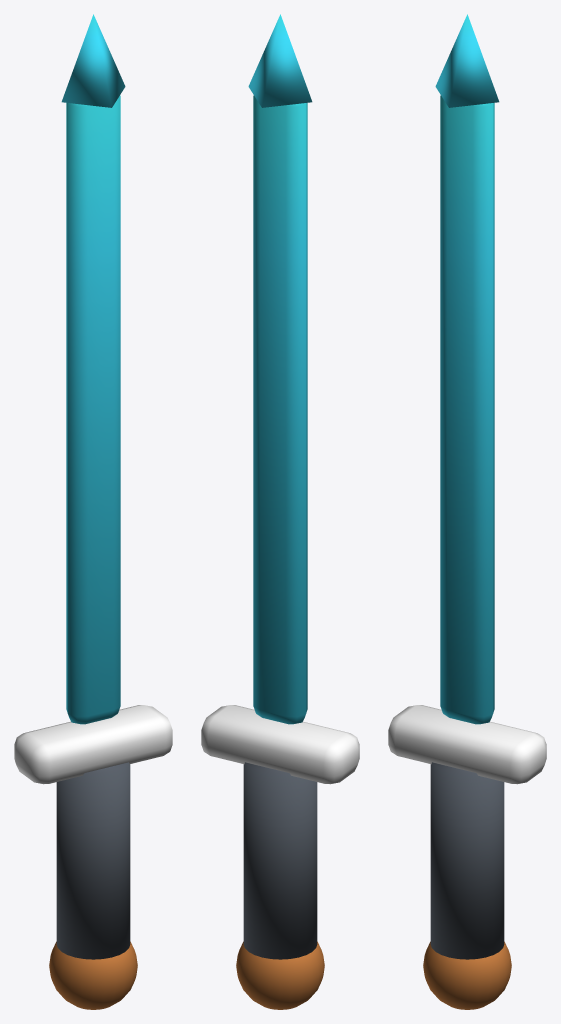
File: espada_energia.glb
3 views of the same model, side by side, from view 1: azimuth 30°, elevation 25°; view 2: azimuth 150°, elevation 25°; view 3: azimuth 330°, elevation 25° (orthographic).
Visible parts, largest first — view 1: espada_energia_fijo; view 2: espada_energia_fijo; view 3: espada_energia_fijo.
Boxes of the visible parts, x1,y1,x2,y2 form: espada_energia_fijo: (14, 14, 172, 1009); espada_energia_fijo: (201, 14, 359, 1009); espada_energia_fijo: (388, 14, 546, 1009).
Bounding box in the file's own units: 0.22 × 1.48 × 0.12.
Materials: 2 (2 with a texture image).
